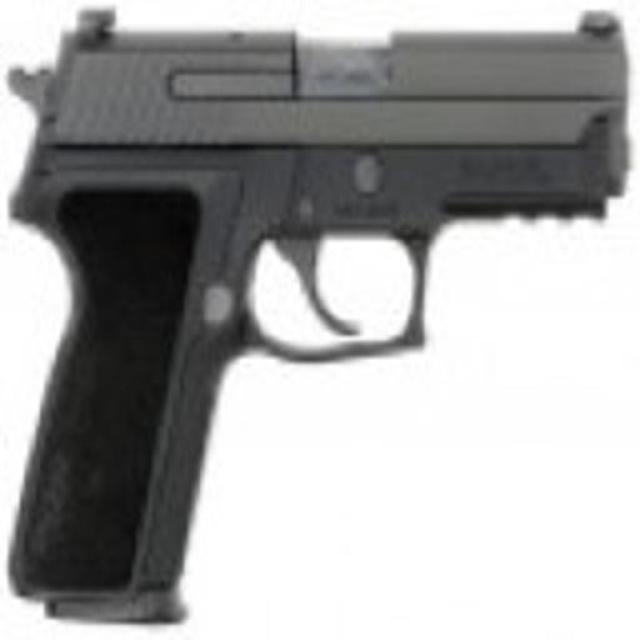pistol: (3, 5, 631, 624)
